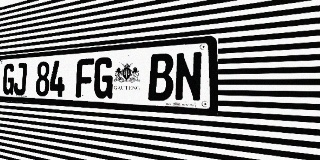4: (49, 60, 66, 97)
8: (35, 61, 51, 96)
B: (148, 53, 174, 101)
F: (75, 58, 94, 98)
G: (93, 57, 114, 99), (2, 63, 15, 95)
J: (13, 63, 27, 95)
N: (174, 51, 203, 102)
